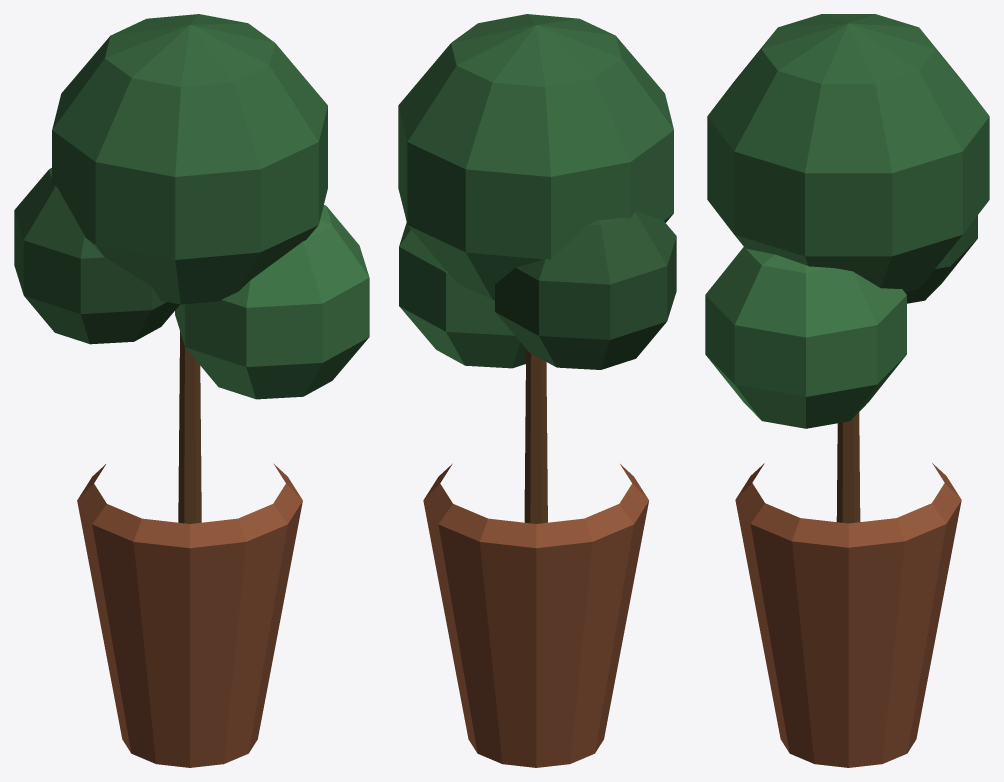
Rendered from plant.glb.
3 renders of one model, left to right at view 1: azimuth 30°, elevation 25°; view 2: azimuth 150°, elevation 25°; view 3: azimuth 270°, elevation 25°, orthographic.
Parts seen in each view (by area): view 1: plant; view 2: plant; view 3: plant.
Part boxes in pixels (x1,y1,x2,y2): plant: [14, 14, 369, 767]; plant: [398, 14, 676, 767]; plant: [705, 14, 989, 767].
Size of the model in its own units: 0.4442 by 1.02 by 0.3679.
